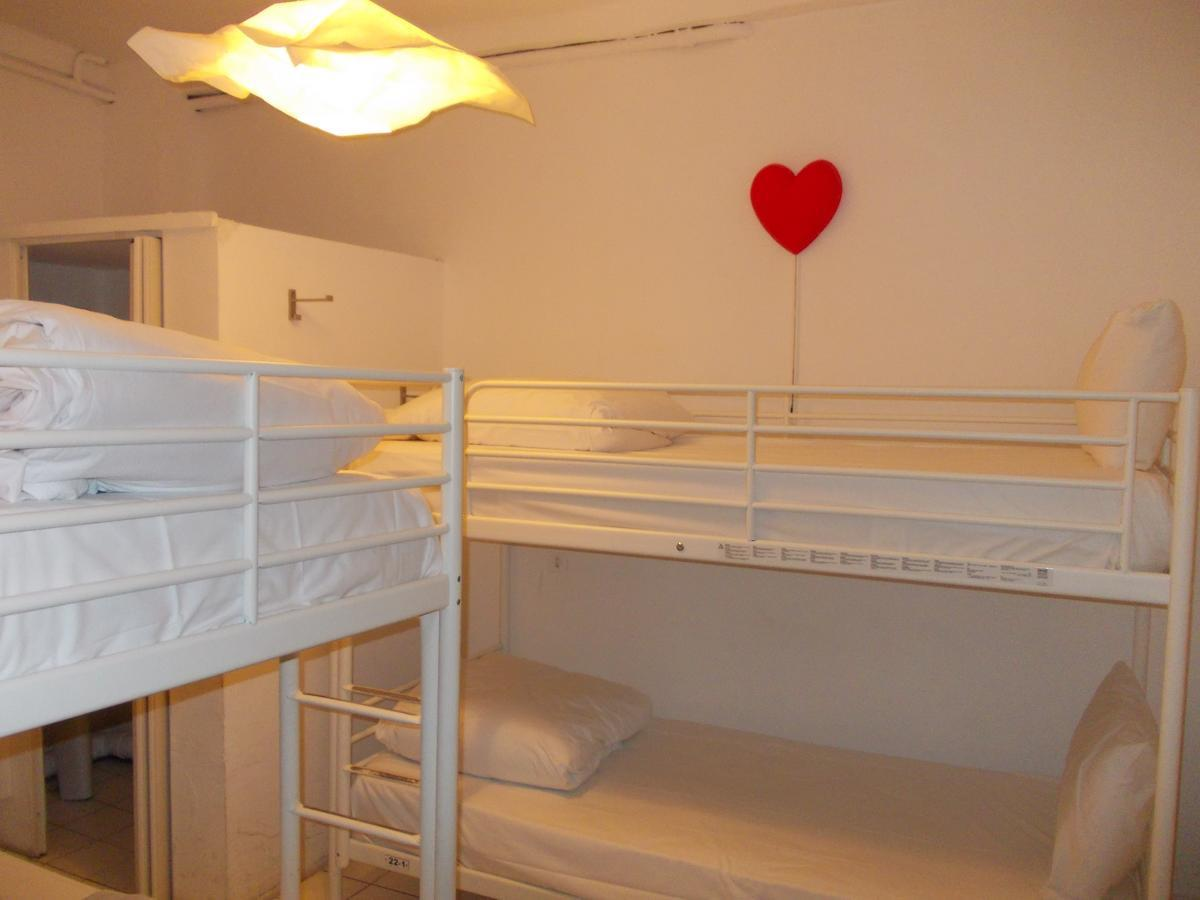bed: (440, 376, 1200, 624)
